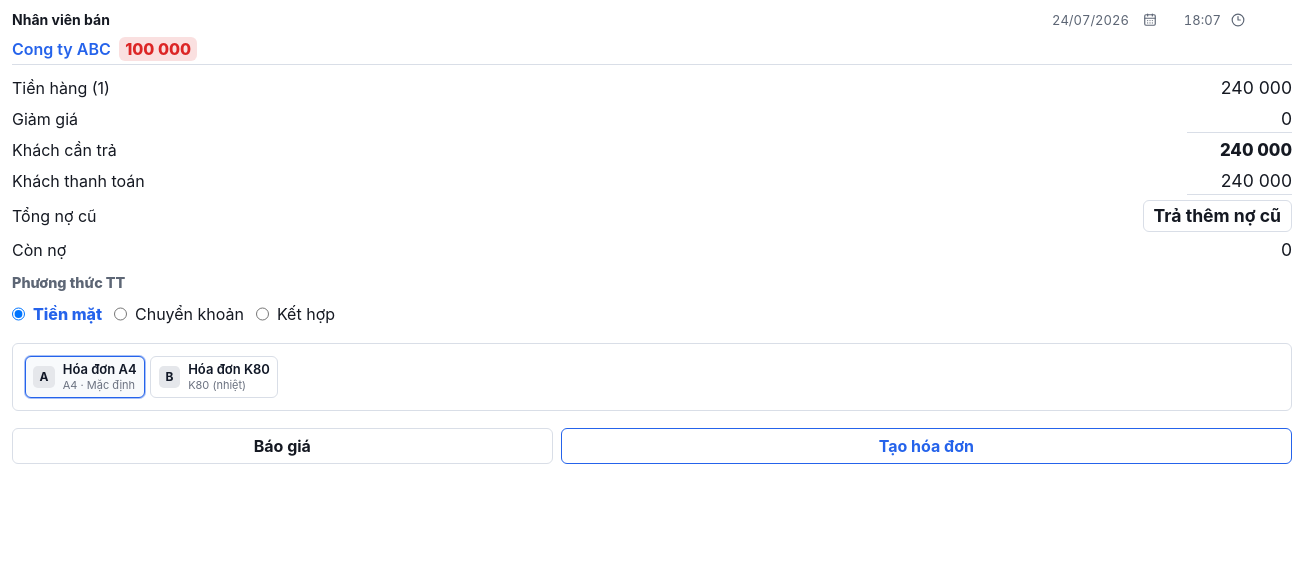
Test: splits mixed payment into cash and bank rows with bank account selector
The image size is (1304, 562).
Click the radio button labelled "Kết hợp". click: x=262, y=314
box: [256, 294, 269, 334]
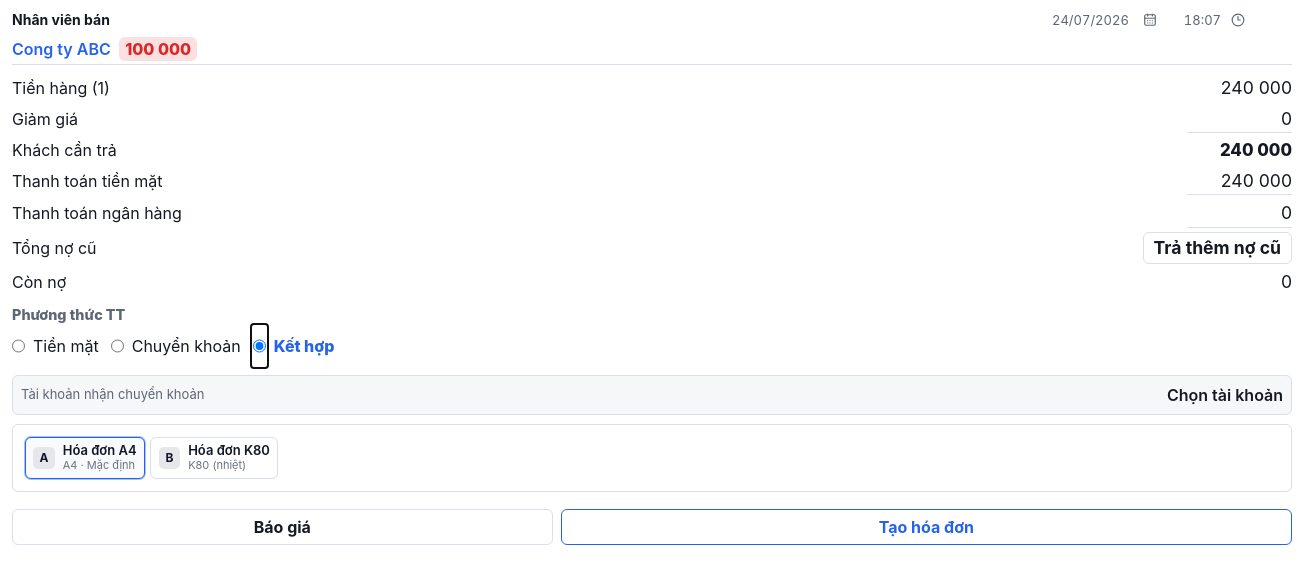
Expected: the text labelled "Khách thanh toán" is gone
Expected: the field named "Thanh toán ngân hàng" holds "0", [1187, 200, 1292, 228]
Expected: the button "Tài khoản nhận chuyển khoản Chọn tài khoản" is shown, [12, 375, 1292, 415]
